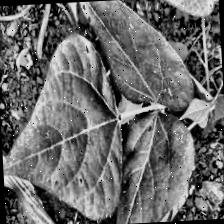ALS: (0, 38, 122, 224), (64, 0, 197, 117), (107, 110, 200, 224)
